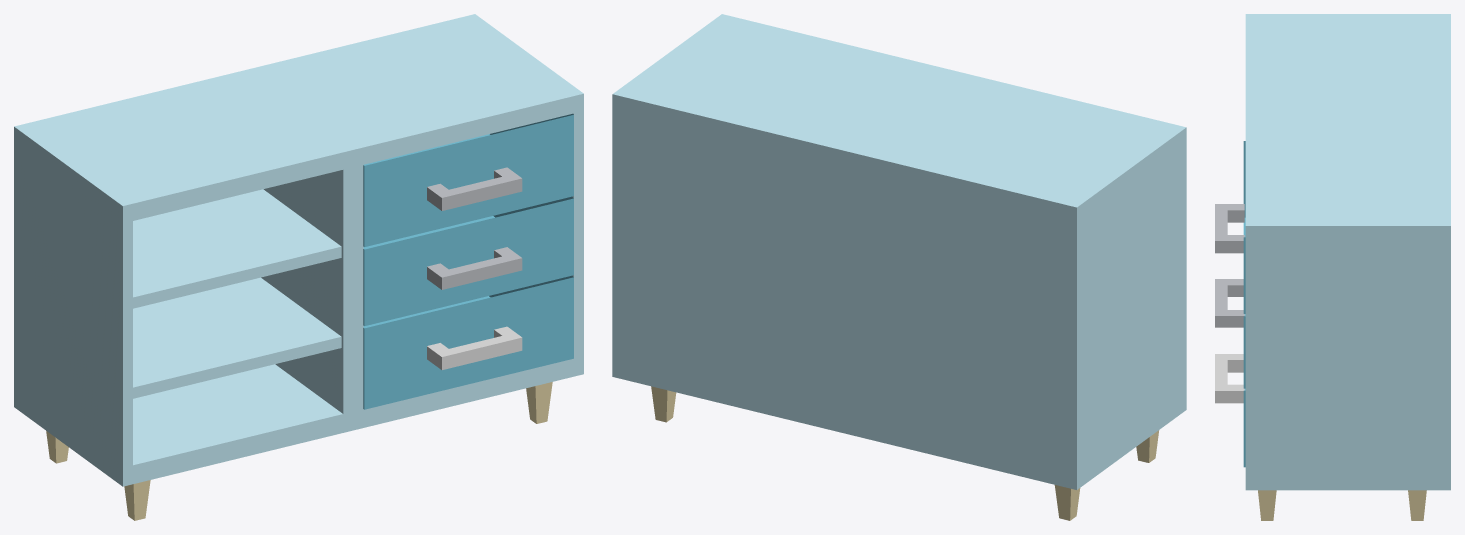
Rendered from KabinetBawah.fbx.
The picture shows the model from 3 angles, left to right: view 1: azimuth 30°, elevation 25°; view 2: azimuth 150°, elevation 25°; view 3: azimuth 270°, elevation 25°; orthographic projection. The views are drawn at different scales.
Visible parts, largest first — view 1: Cube; view 2: Cube; view 3: Cube.
Boxes of the visible parts, box(x1,y1,x2,y2) form: Cube: box(14, 14, 583, 520); Cube: box(612, 14, 1186, 520); Cube: box(1215, 14, 1450, 520).
Bounding box in the file's own units: 167 × 113 × 78.35.
